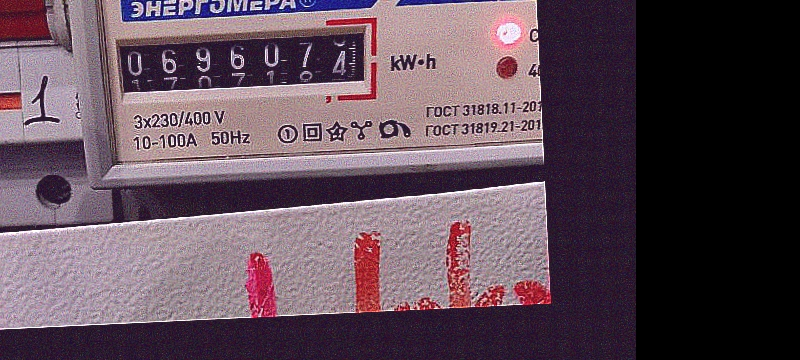0: (125, 47, 145, 77), (260, 39, 281, 67)
4: (329, 48, 348, 77)
6: (227, 41, 247, 70), (159, 46, 178, 74)
7: (295, 38, 316, 68)
9: (193, 45, 212, 73)
screen: (103, 12, 385, 113)
